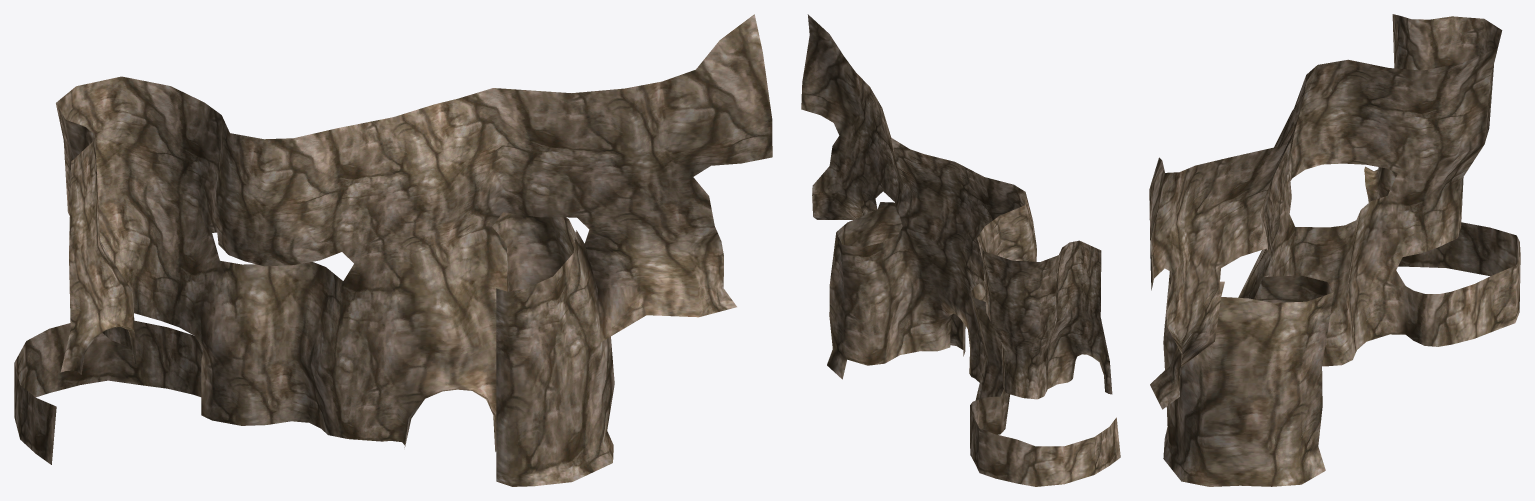
The model's file is EKH_GROTTO_PS_GR_OBJECT24.fbx.
3 renders of one model, left to right at view 1: azimuth 30°, elevation 25°; view 2: azimuth 150°, elevation 25°; view 3: azimuth 270°, elevation 25°, orthographic. The views are drawn at different scales.
Visible parts, largest first — view 1: EKH_GROTTO_PS_GR_OBJECT24; view 2: EKH_GROTTO_PS_GR_OBJECT24; view 3: EKH_GROTTO_PS_GR_OBJECT24.
Boxes of the visible parts, box(x1,y1,x2,y2) form: EKH_GROTTO_PS_GR_OBJECT24: box(14, 14, 772, 486); EKH_GROTTO_PS_GR_OBJECT24: box(801, 14, 1120, 486); EKH_GROTTO_PS_GR_OBJECT24: box(1149, 14, 1520, 486).
Bounding box in the file's own units: 232912 × 161008 × 142489.
Materials: 1 (1 with a texture image).
